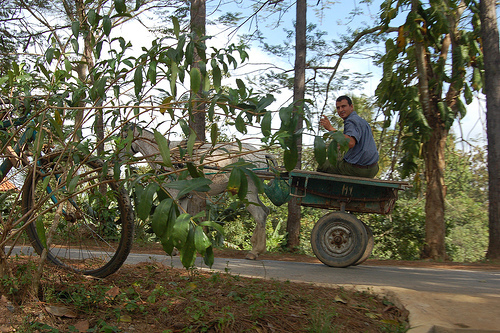horse: (105, 115, 283, 261)
